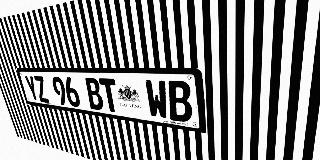6: (62, 77, 81, 107)
9: (51, 76, 69, 106)
B: (166, 80, 193, 123), (84, 78, 105, 111)
T: (98, 78, 120, 113)
W: (144, 80, 169, 120)
Y: (24, 75, 40, 102)
Z: (33, 76, 50, 103)
